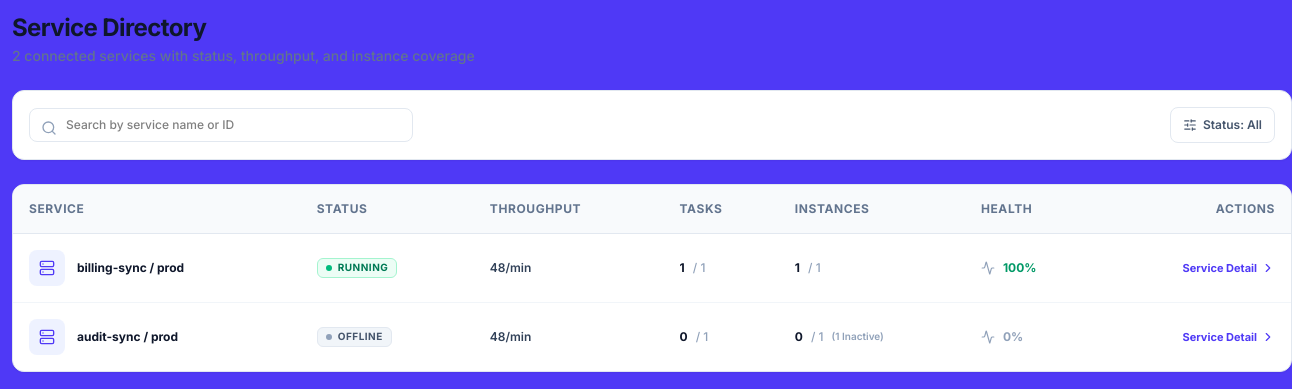
Test: ServicesList filters › filters services by display status
This screenshot has width=1292, height=389.
Click the button "Status: All". click: {"x": 1222, "y": 125}
box: top-left (1170, 107), bottom-right (1275, 143)
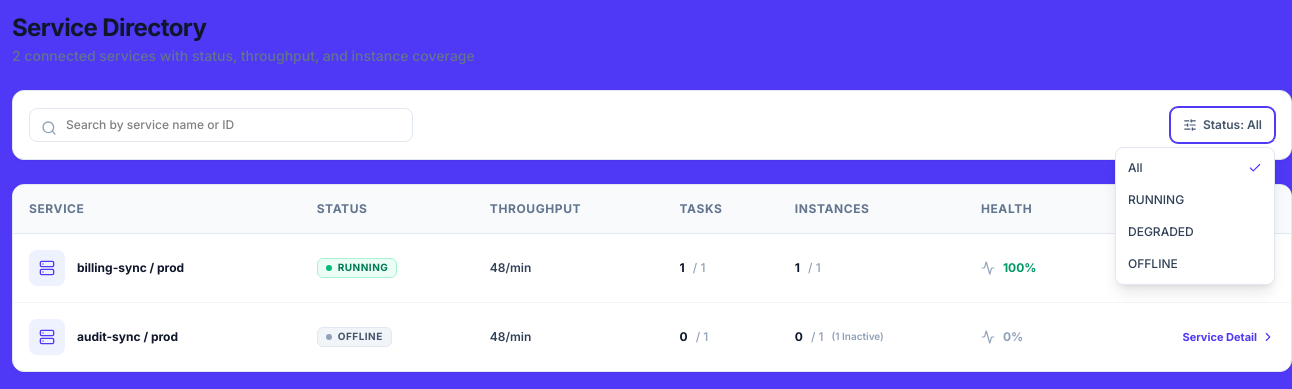
Click the button "OFFLINE". click: {"x": 1195, "y": 264}
box: top-left (1116, 248), bottom-right (1274, 280)
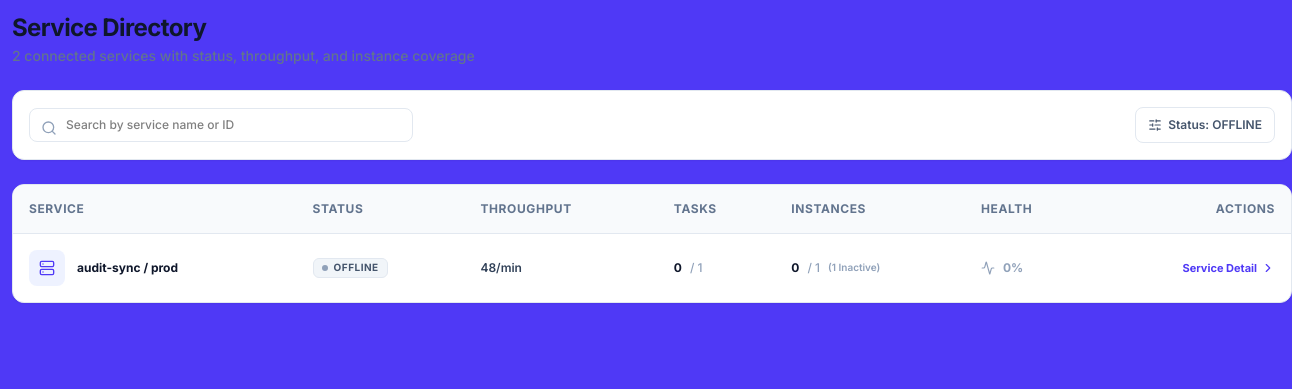
Expected: the text "audit-sync / prod" is shown, top-left (77, 260), bottom-right (178, 276)
Result: the text "billing-sync / prod" is gone
